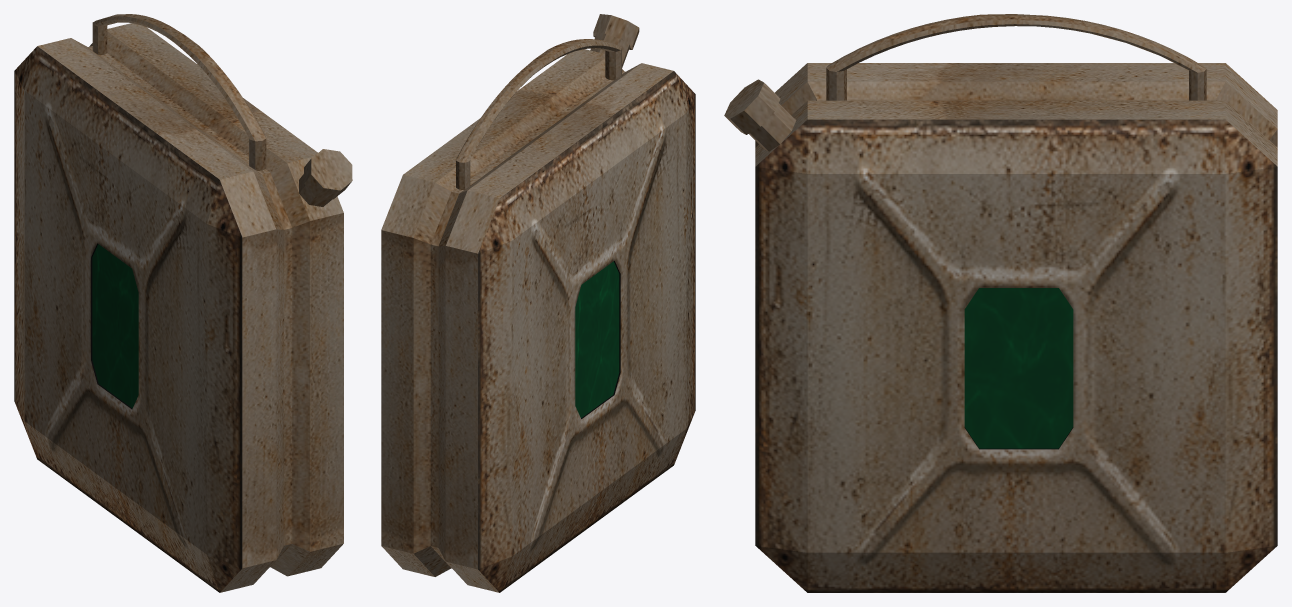
File: Canister.fbx
3 renders of one model, left to right at view 1: azimuth 30°, elevation 25°; view 2: azimuth 150°, elevation 25°; view 3: azimuth 270°, elevation 25°, orthographic. The views are drawn at different scales.
Visible parts, largest first — view 1: Canister, Liquid; view 2: Canister, Liquid; view 3: Canister, Liquid.
Part boxes in pixels (x1=…): Canister: x1=14, y1=14, x2=352, y2=592; Liquid: x1=92, y1=244, x2=138, y2=408; Canister: x1=381, y1=14, x2=695, y2=592; Liquid: x1=575, y1=261, x2=619, y2=417; Canister: x1=724, y1=14, x2=1277, y2=592; Liquid: x1=964, y1=288, x2=1073, y2=448.
Size of the model in its own units: 0.642 by 2.32 by 2.12.
